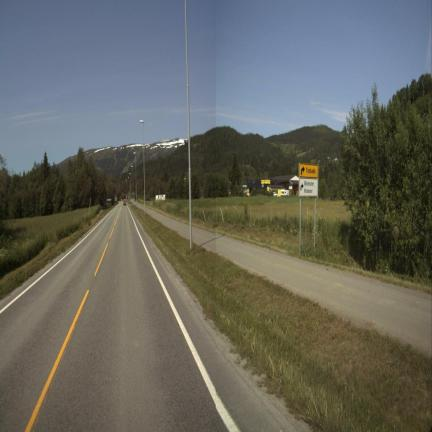Road: (0, 206, 308, 430), (193, 227, 431, 356)
